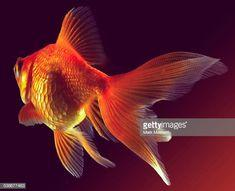goldfish: (6, 32, 167, 156)
